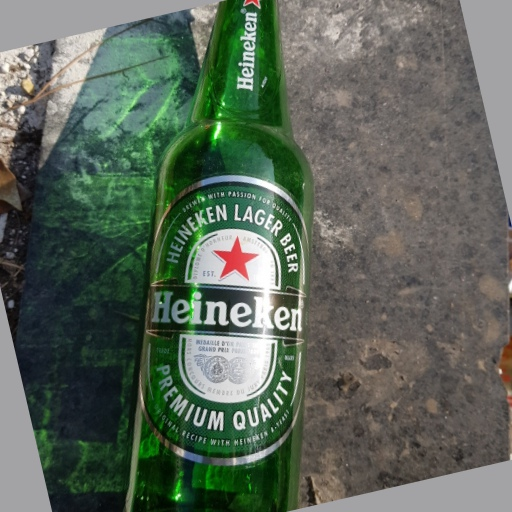Glass_1: (111, 1, 318, 512)
